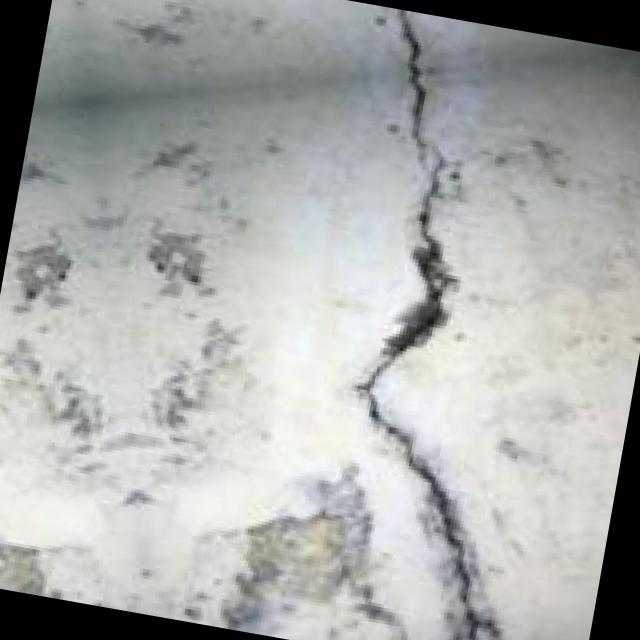crack: (205, 0, 612, 640)
